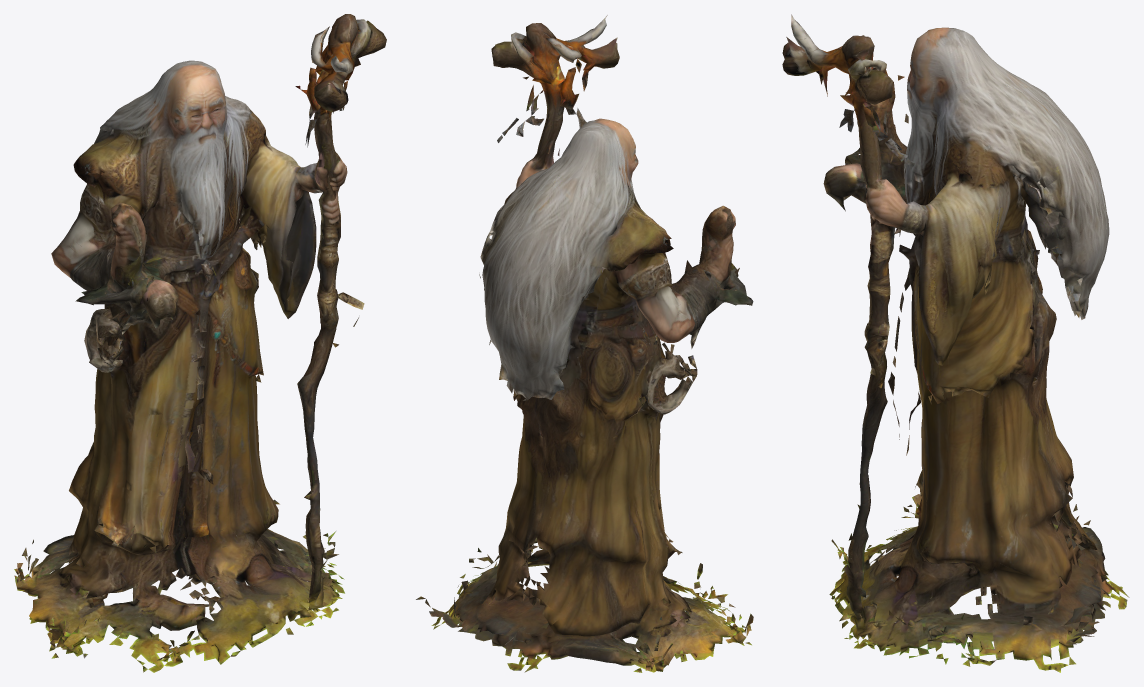
The model's file is Druida-viejo.glb.
3 renders of one model, left to right at view 1: azimuth 30°, elevation 25°; view 2: azimuth 150°, elevation 25°; view 3: azimuth 270°, elevation 25°, orthographic. The views are drawn at different scales.
Bounding box in the file's own units: 1.06 × 1.96 × 0.9741.
1 material, 1 textured.
